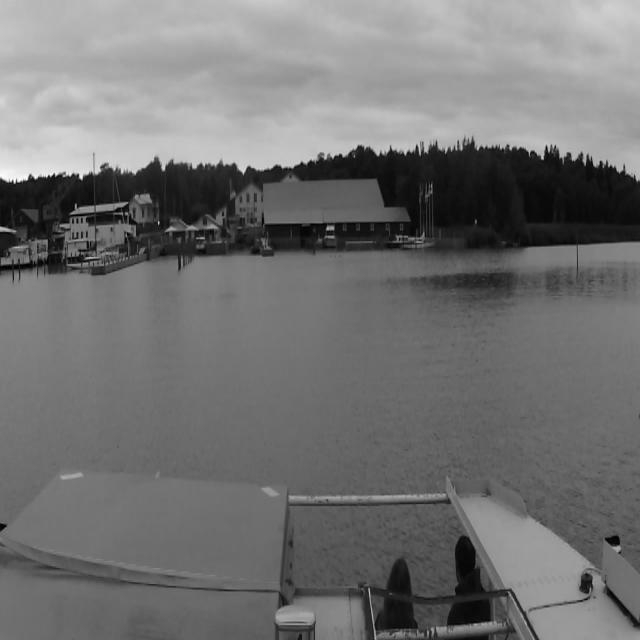buoy: (575, 239, 579, 281)
ship: (66, 152, 100, 273), (402, 206, 436, 252), (324, 224, 338, 250)
